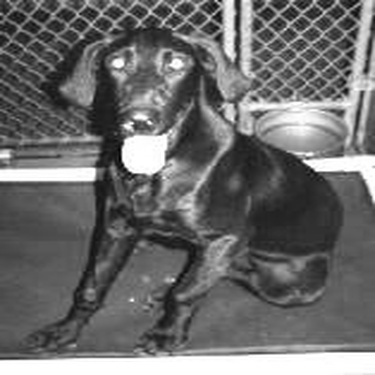dog: (16, 17, 348, 362)
